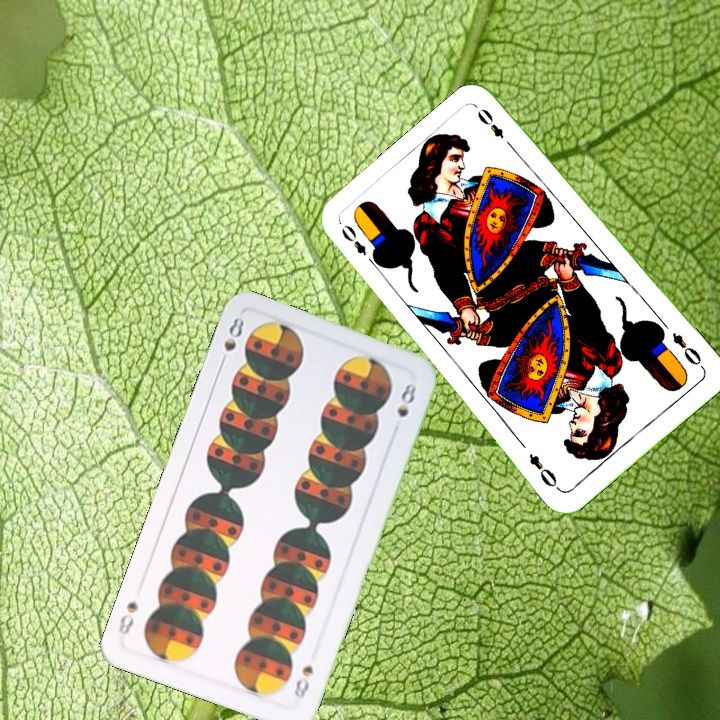EO: (337, 220, 380, 269), (668, 328, 707, 372)
S8: (215, 313, 247, 370), (290, 661, 316, 707)
